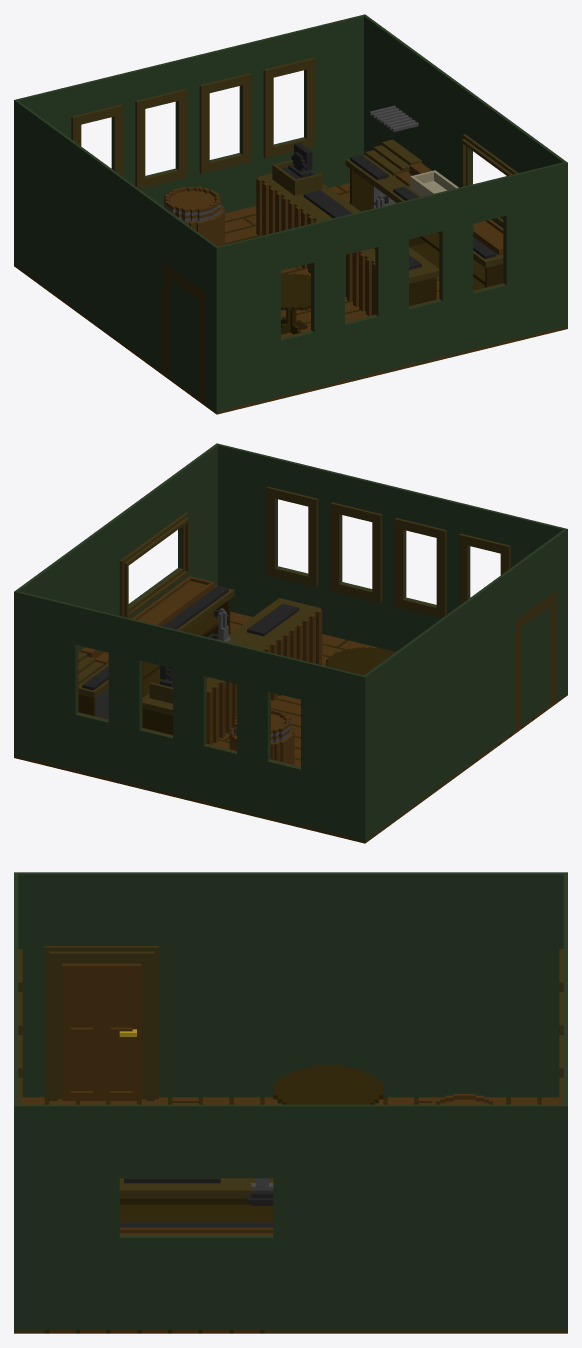
Rendered from FirstLevel.obj.
The picture shows the model from 3 angles, top to bottom: view 1: azimuth 30°, elevation 25°; view 2: azimuth 150°, elevation 25°; view 3: azimuth 270°, elevation 25°; orthographic projection. The views are drawn at different scales.
Size of the model in its own units: 126 by 57 by 126.
1 material, 1 textured.
